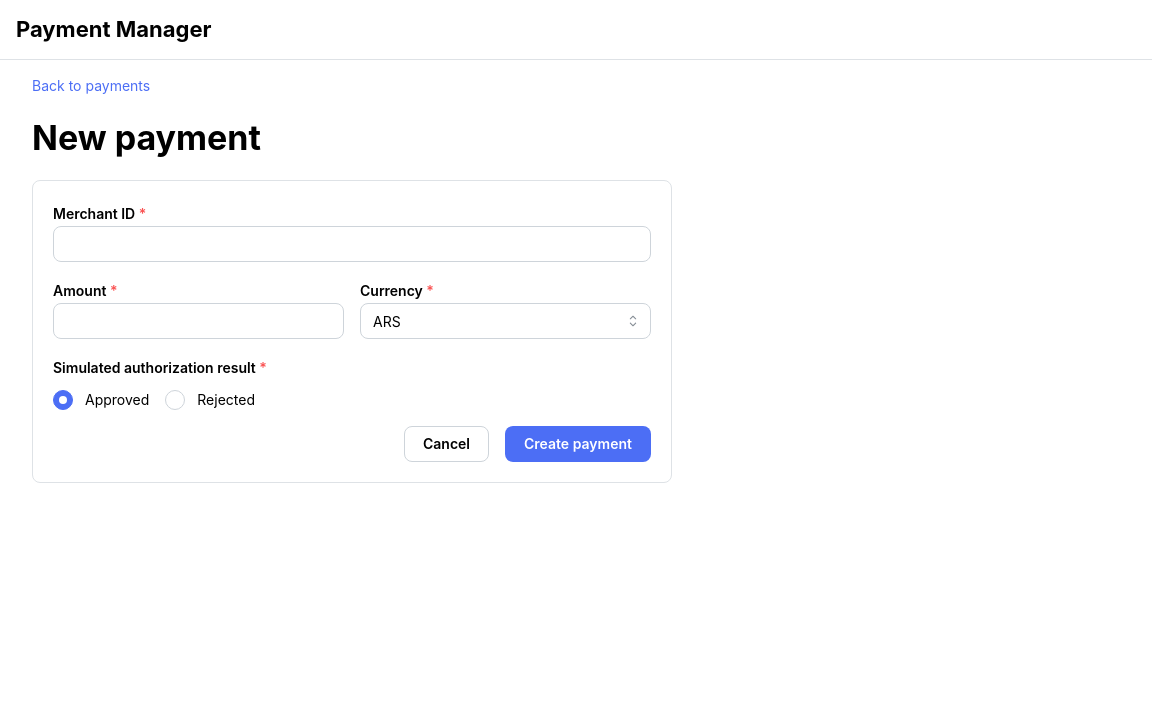
Test: CreatePaymentPage › given the server rejects a field, when the form is submitted, then shows the error next to the field and keeps the form
Type "merchant-001" into the field labelled "Merchant ID" at (352, 244), box [53, 226, 651, 262]
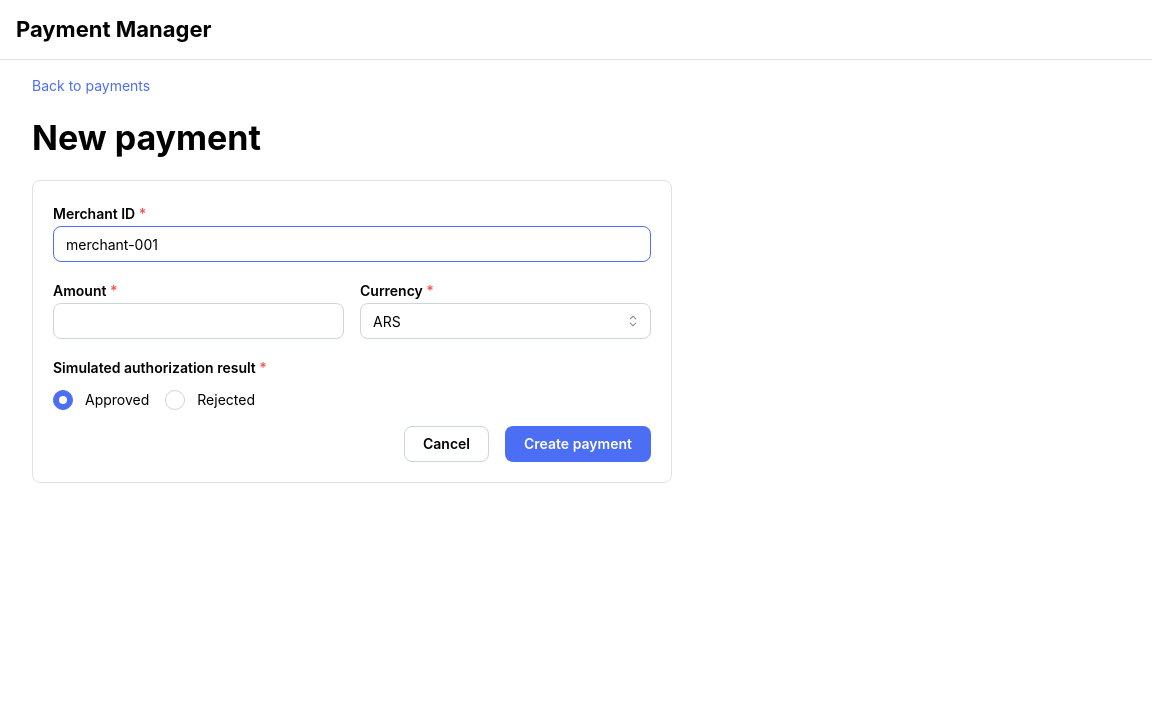
Type "1500.5" into the field labelled "Amount" at (198, 321), box [53, 303, 344, 339]
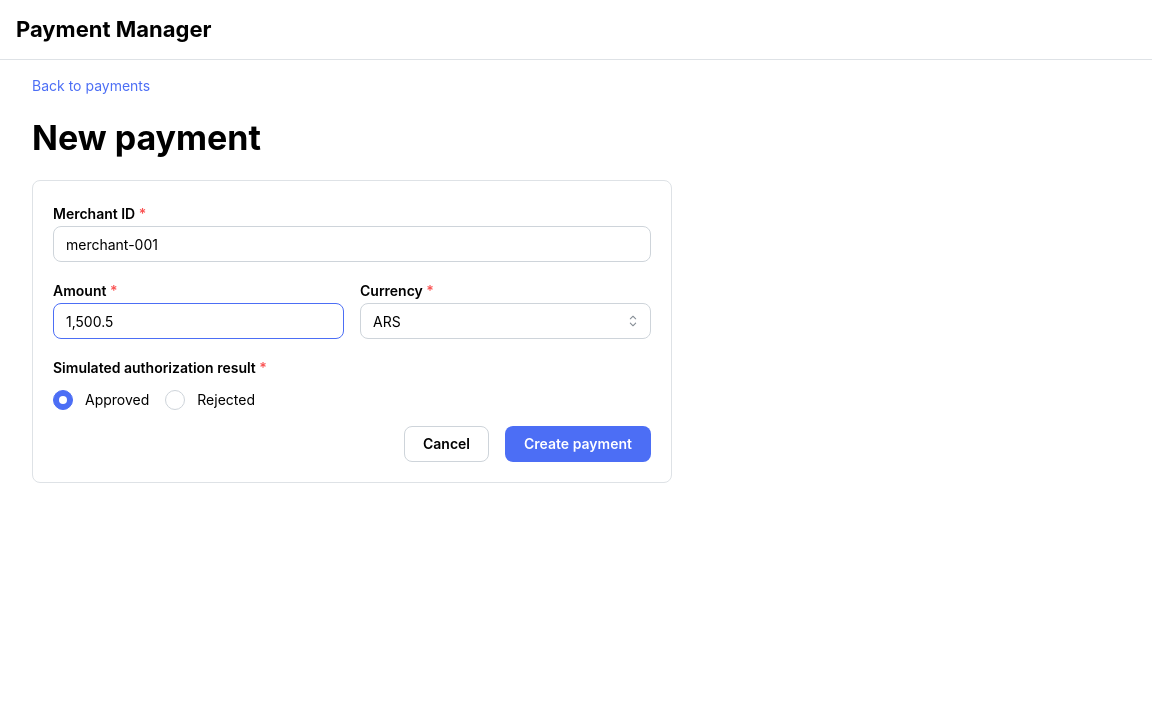
Click the button "Create payment" at (578, 444), box [505, 426, 651, 462]
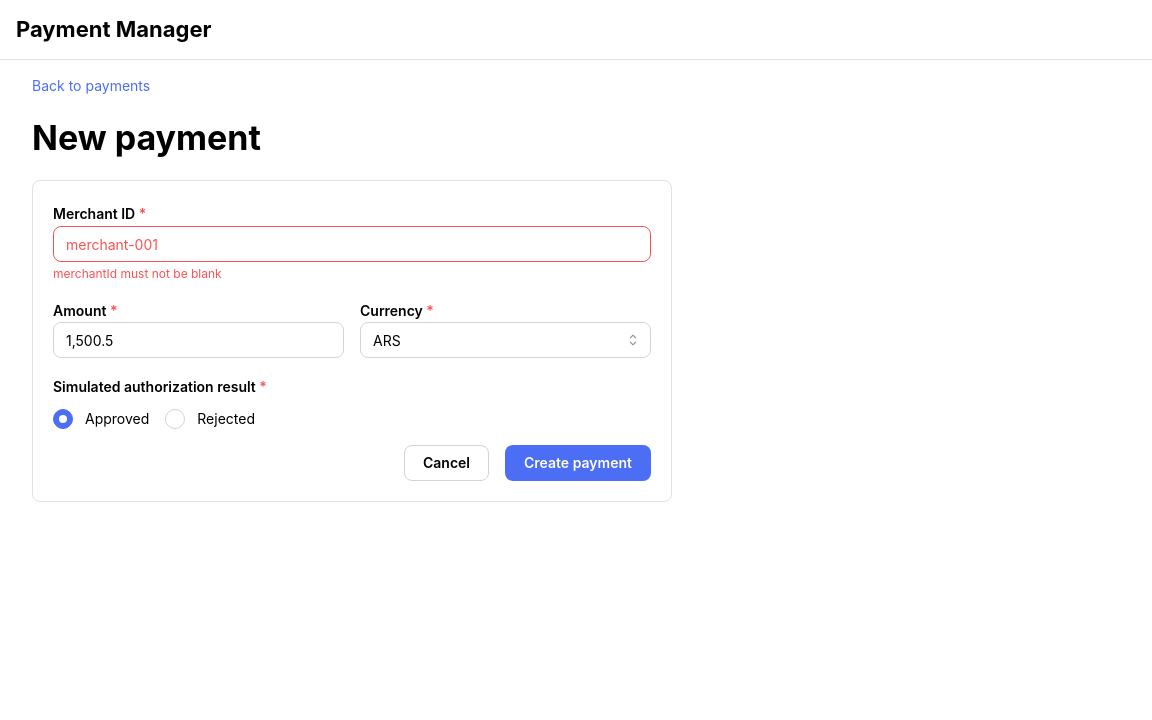
Now the text "merchantId must not be blank" is shown, box [53, 266, 222, 281]
